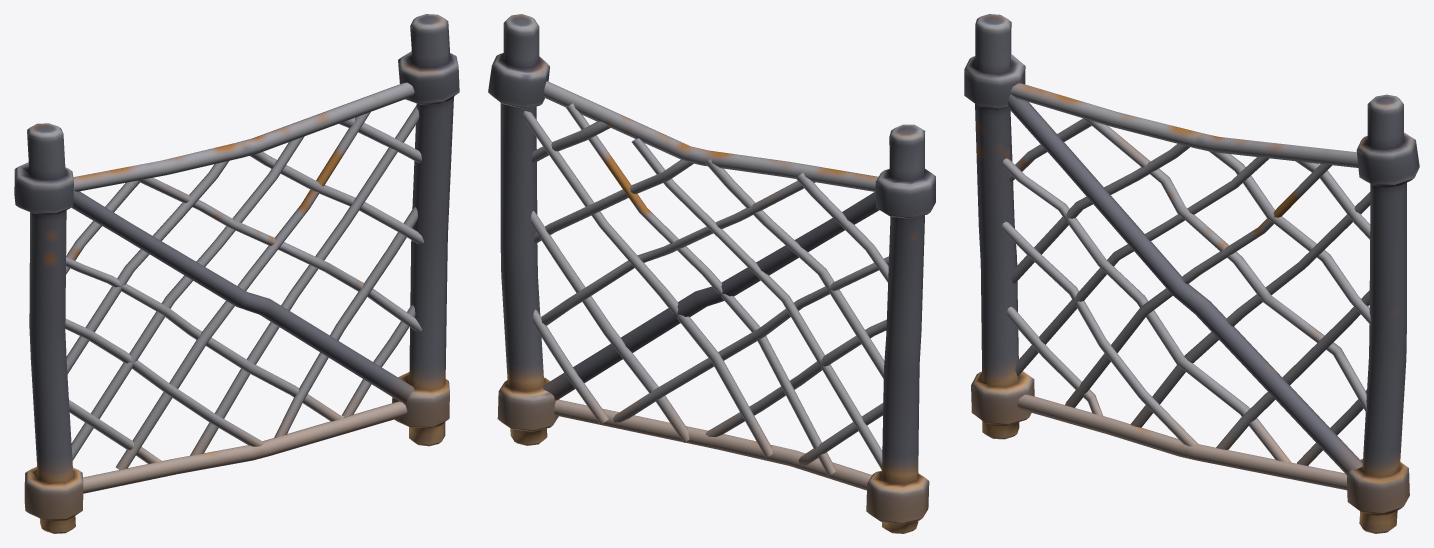
Rendered from Fence_02.fbx.
3 views of the same model, side by side, from view 1: azimuth 30°, elevation 25°; view 2: azimuth 150°, elevation 25°; view 3: azimuth 330°, elevation 25° (orthographic). The views are drawn at different scales.
Parts seen in each view (by area): view 1: Fence_02; view 2: Fence_02; view 3: Fence_02.
Part boxes in pixels (x1,y1,x2,y2): Fence_02: (14, 14, 459, 533); Fence_02: (488, 14, 935, 533); Fence_02: (964, 14, 1419, 533).
Bounding box in the file's own units: 0.4421 × 0.4019 × 0.0567.
